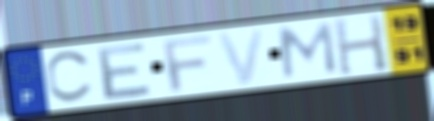C: (43, 48, 95, 105)
E: (96, 39, 155, 102)
F: (160, 33, 214, 93)
H: (331, 12, 390, 77)
M: (276, 20, 340, 80)
V: (213, 26, 268, 87)
